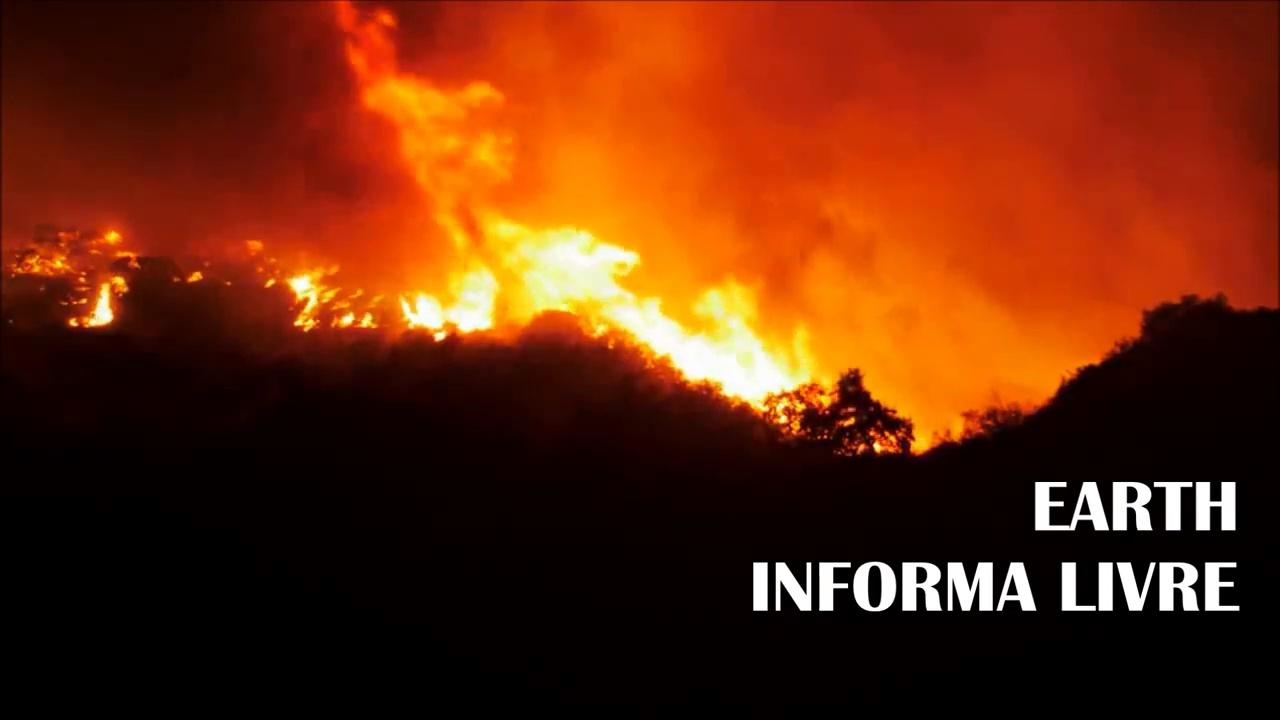fire: (415, 193, 818, 409)
smoke: (7, 0, 1277, 186), (827, 193, 1130, 362)
